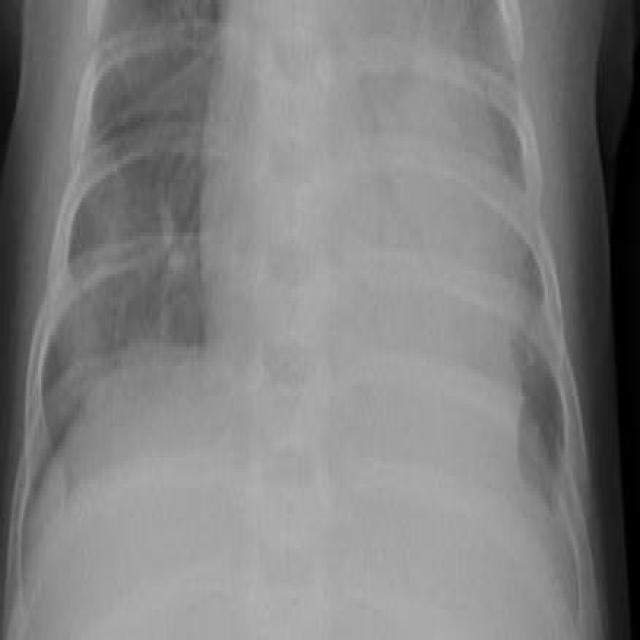low-pneumonia: (150, 200, 191, 295)
